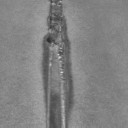slag inclusion: (41, 0, 75, 126)
